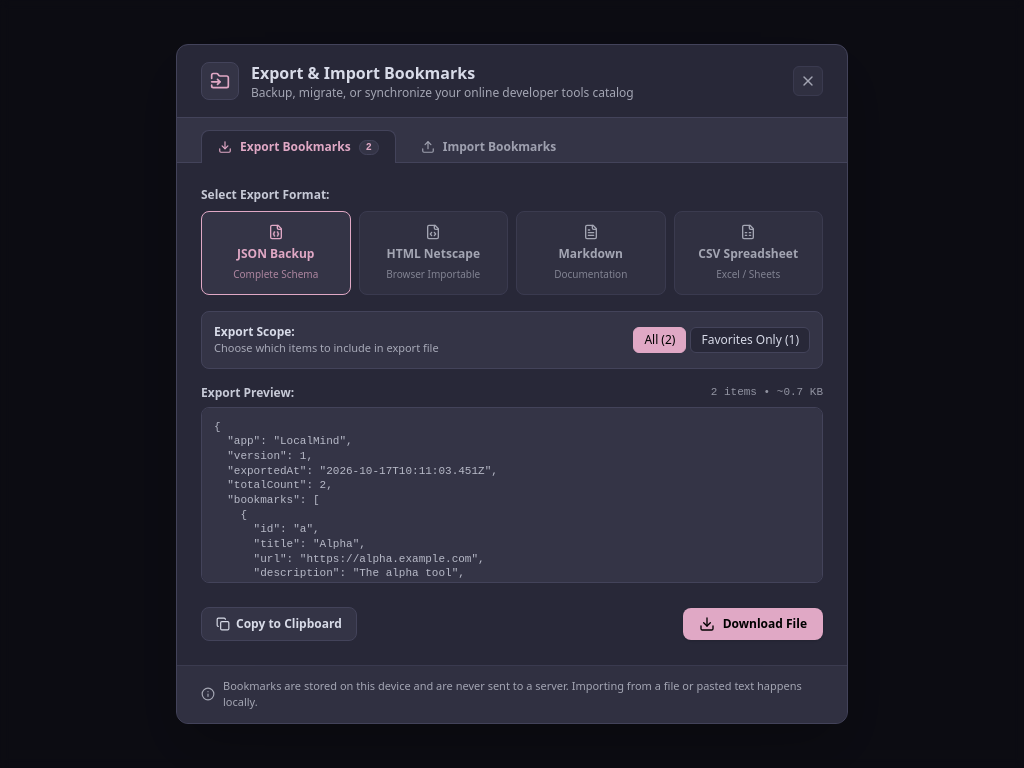
export tab › shows a preview of the chosen format and its size
Click the button with id "export-format-csv" at (748, 253), box [674, 211, 823, 295]
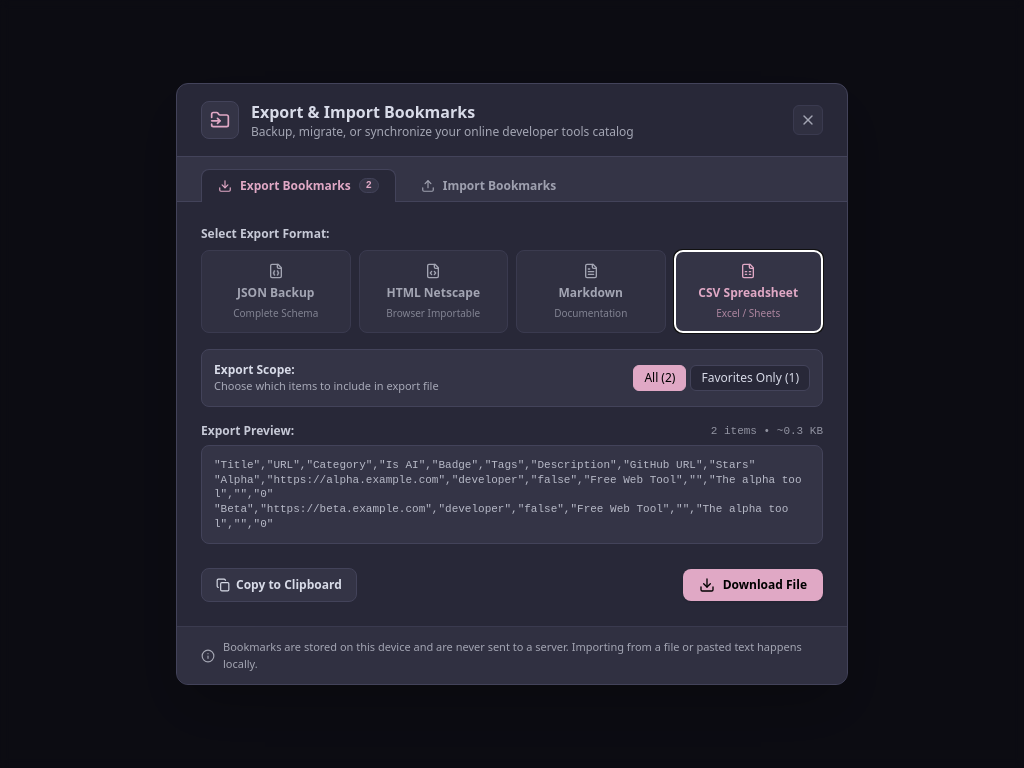
Expected: the text "\"Title\",\"URL\",\"Category\"" is shown, [214, 459, 802, 530]
